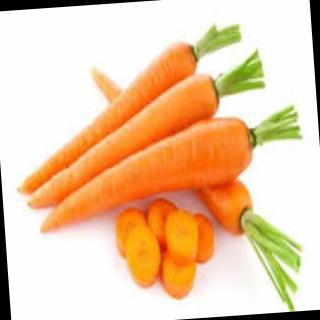Wortel: (18, 70, 241, 213), (29, 114, 267, 235)
